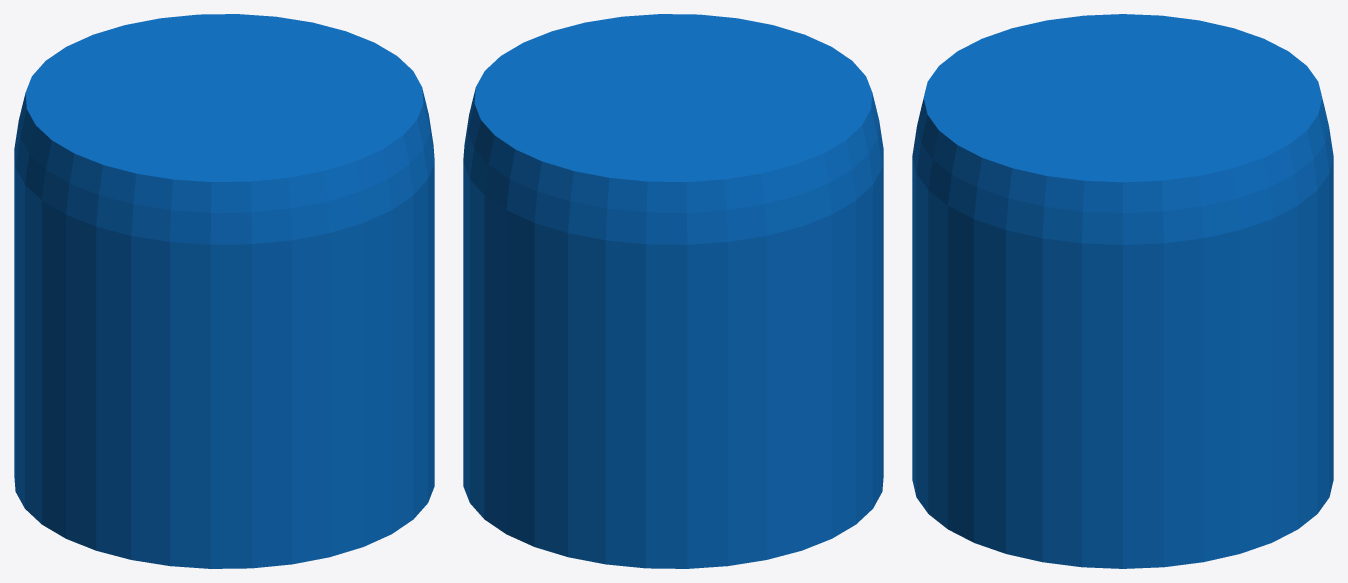
3 views of the same model, side by side, from view 1: azimuth 30°, elevation 25°; view 2: azimuth 150°, elevation 25°; view 3: azimuth 270°, elevation 25° (orthographic).
Parts seen in each view (by area): view 1: base; view 2: base; view 3: base.
Boxes of the visible parts, x1,y1,x2,y2 form: base: (14,14,434,568); base: (463,14,883,568); base: (912,14,1333,568).
Bounding box in the file's own units: 2 × 2 × 2.
